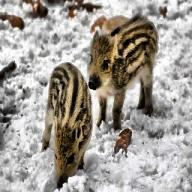boar: (87, 12, 157, 130), (41, 61, 93, 189)
